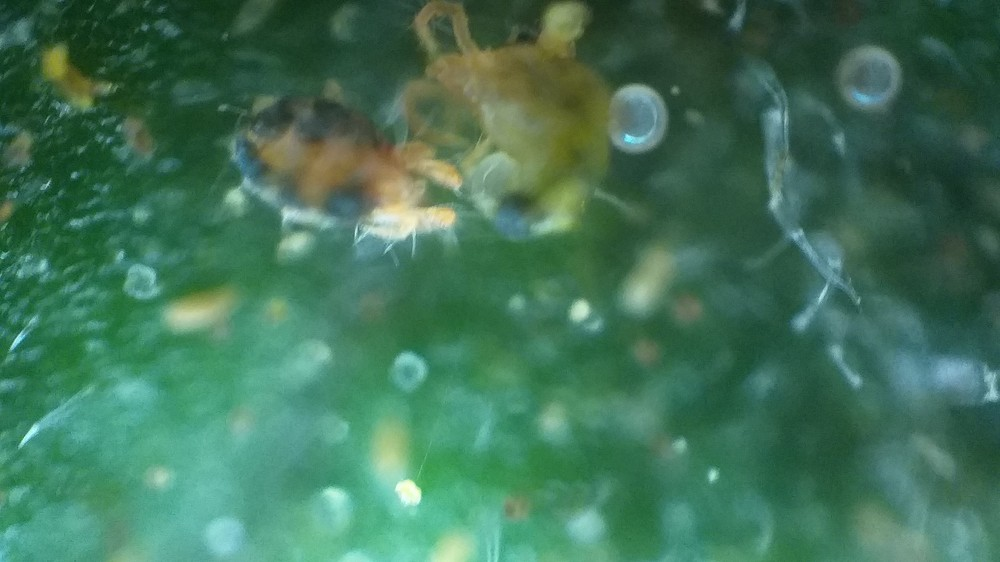Aracnido Rojo: (196, 82, 471, 279), (408, 1, 627, 248)
